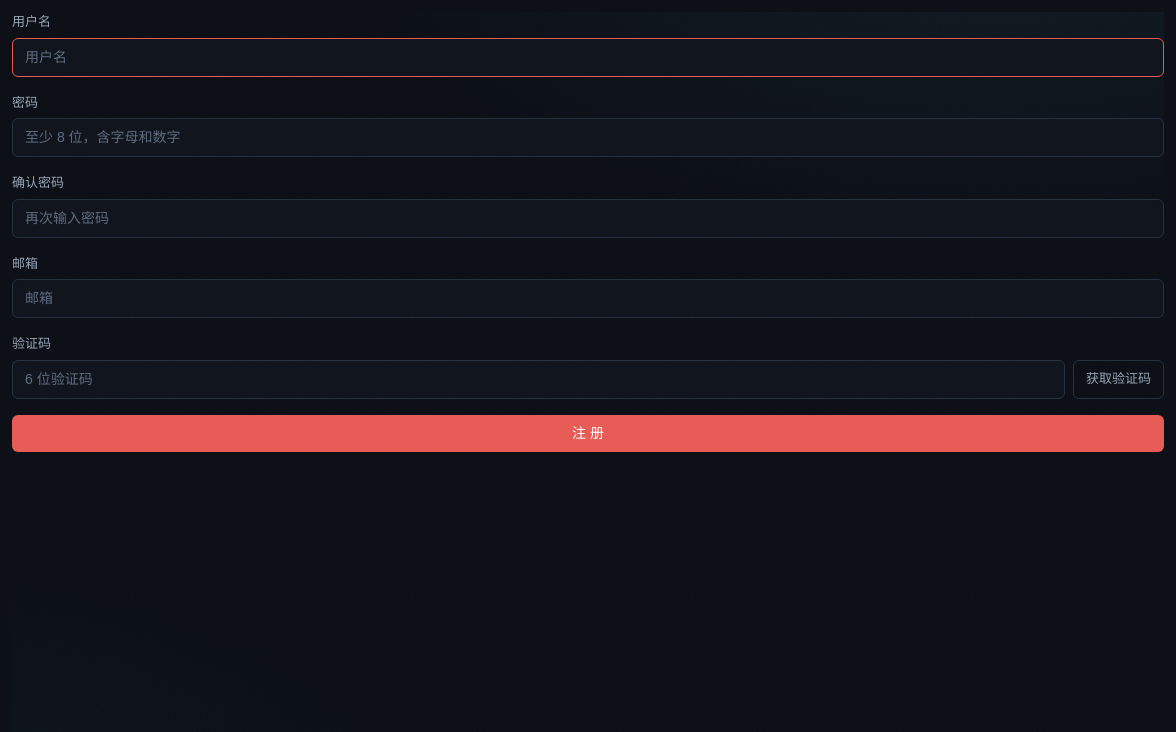
RegisterForm › 邮箱格式不对点「获取验证码」提示且不发请求
Type "newbie" into the field with placeholder "用户名".
click(588, 57); type("newbie")  # box [12, 38, 1164, 76]
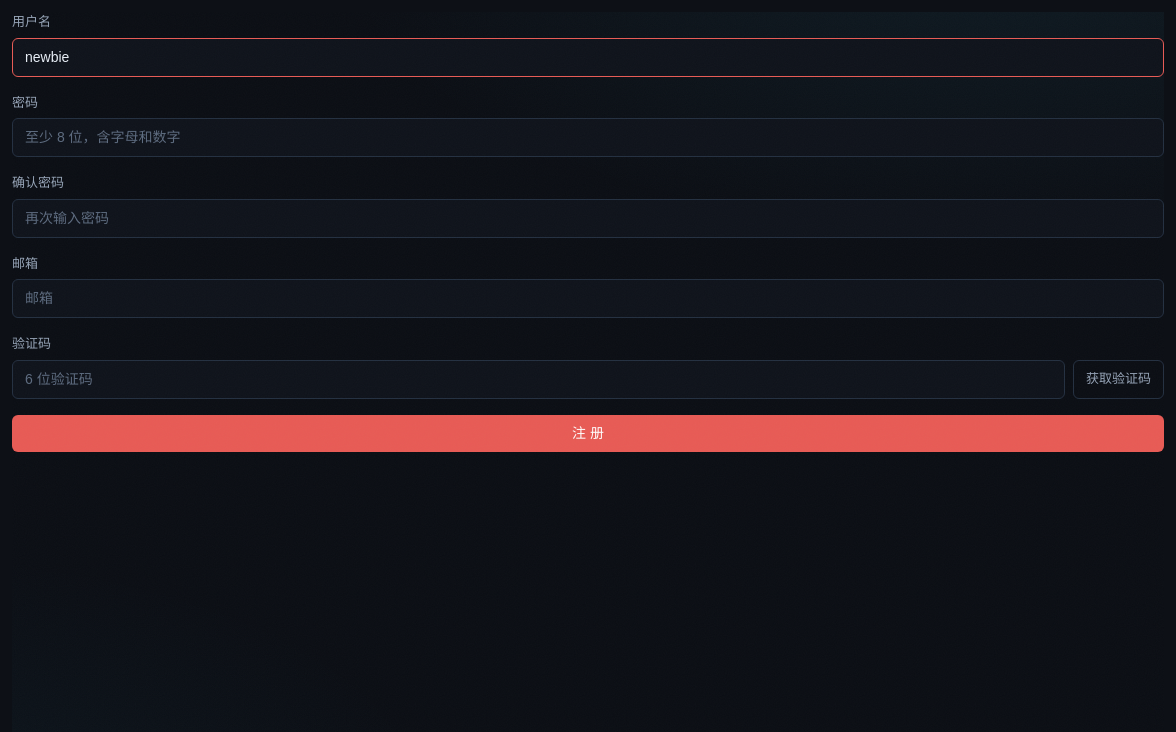
Type "passw0rd" into the password field with placeholder "至少 8 位，含字母和数字".
click(588, 138); type("passw0rd")  # box [12, 118, 1164, 157]
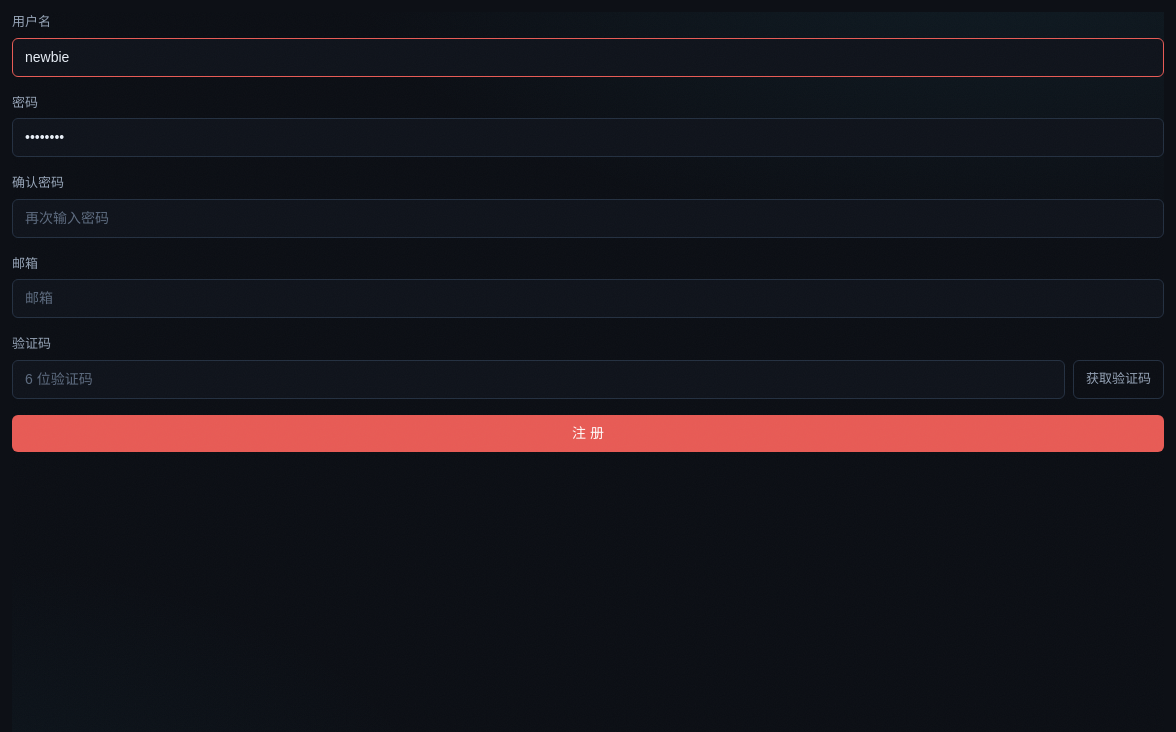
Type "not-an-email" into the field with placeholder "邮箱".
click(588, 298); type("not-an-email")  # box [12, 279, 1164, 318]
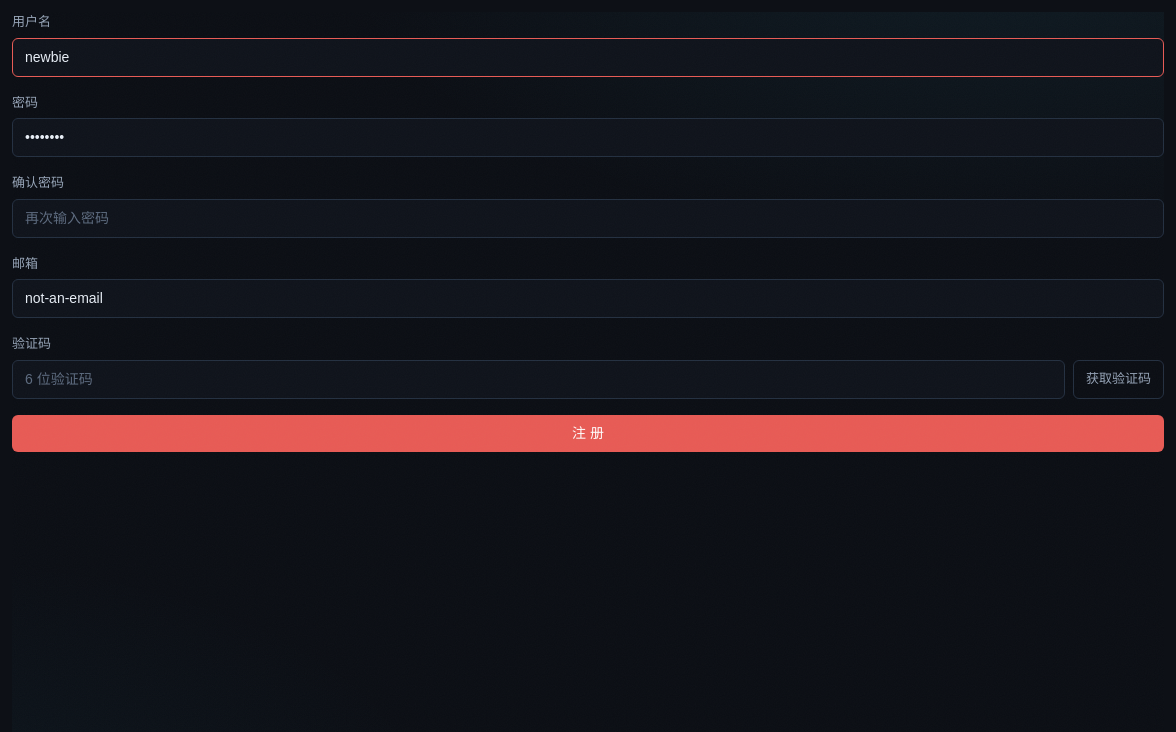
Click the button "获取验证码".
click(1118, 379)  # box [1073, 360, 1164, 398]
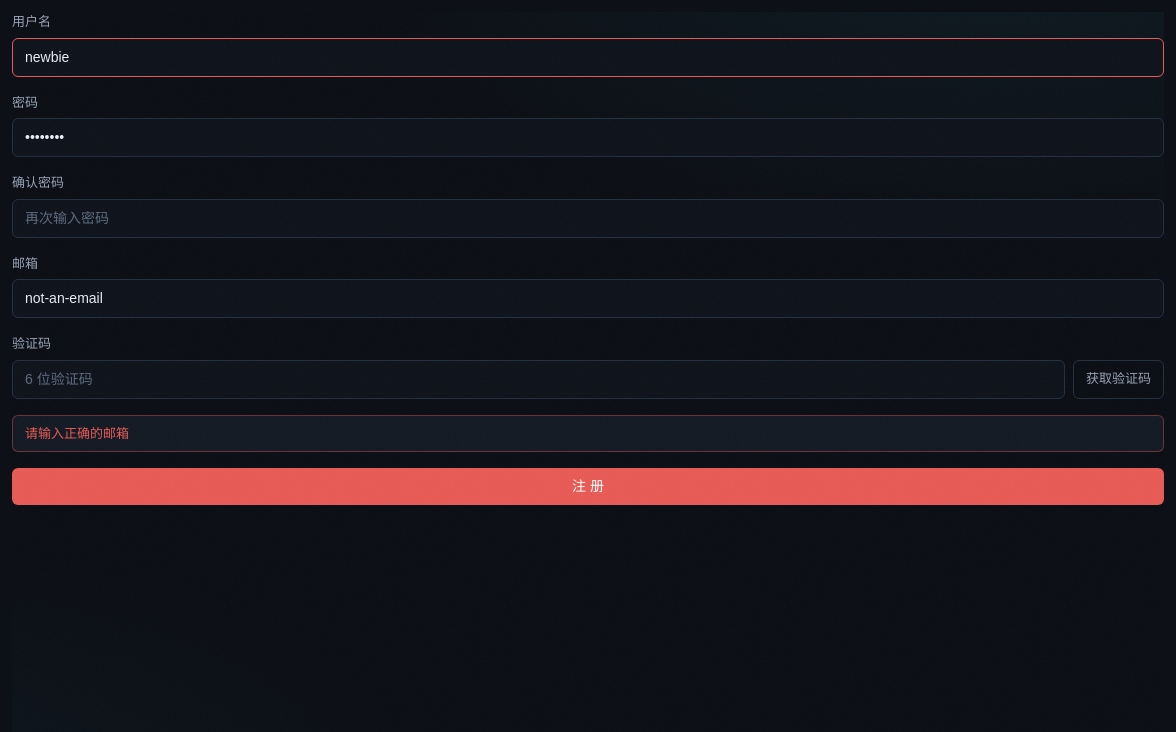
Check: the message reads "请输入正确的邮箱", box [25, 426, 129, 440]
